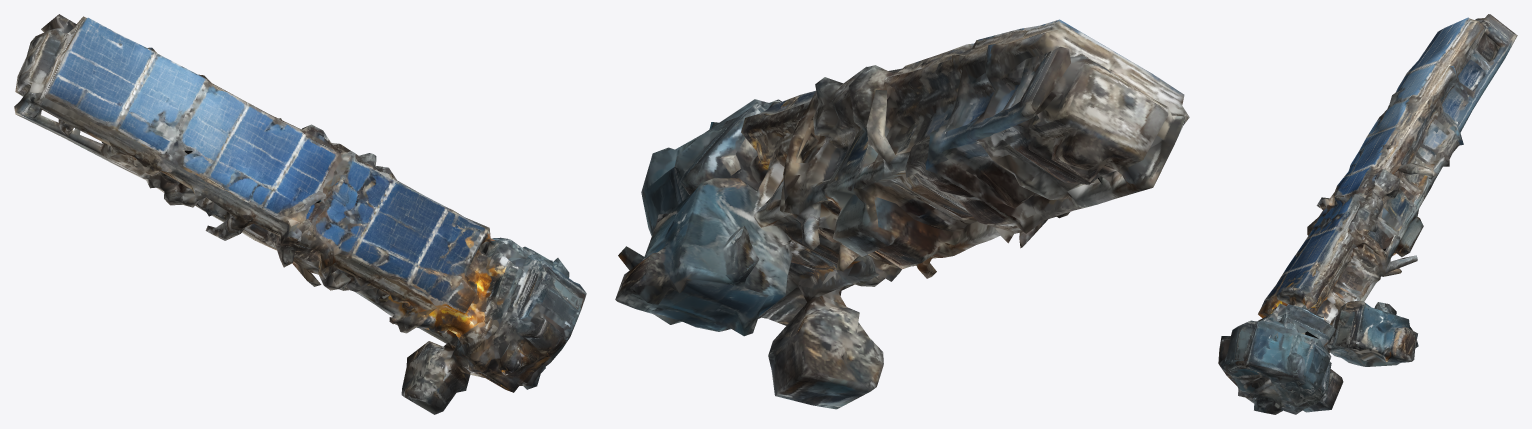
The model's file is solar_wing.glb.
3 views of the same model, side by side, from view 1: azimuth 30°, elevation 25°; view 2: azimuth 150°, elevation 25°; view 3: azimuth 270°, elevation 25° (orthographic). The views are drawn at different scales.
Parts seen in each view (by area): view 1: low; view 2: low; view 3: low.
Boxes of the visible parts, x1,y1,x2,y2 form: low: (14,14,586,414); low: (615,19,1189,409); low: (1218,14,1517,414).
Size of the model in its own units: 14 by 11.6 by 10.44.
Materials: 1 (1 with a texture image).
